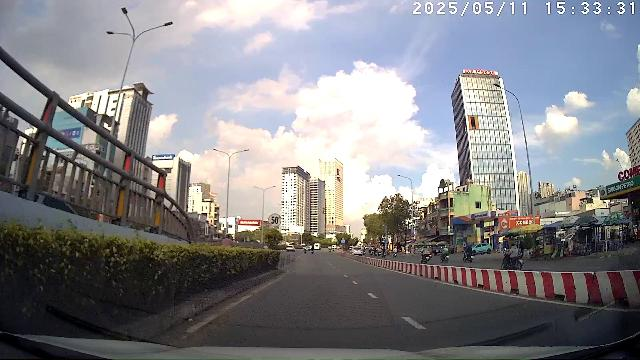134-het-han-che-toc-do-toi-da: (268, 213, 282, 227)
